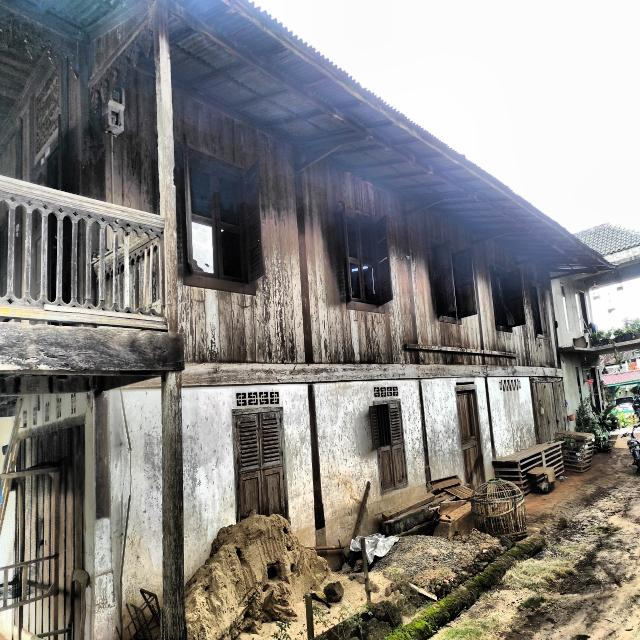door: (455, 381, 486, 491)
ornamen: (0, 176, 166, 331)
roof: (167, 0, 614, 274)
wall: (1, 89, 567, 640)
window: (177, 133, 265, 295), (231, 408, 288, 524), (339, 203, 393, 314), (431, 240, 477, 325), (369, 399, 409, 496), (490, 263, 526, 333), (530, 280, 548, 340)
